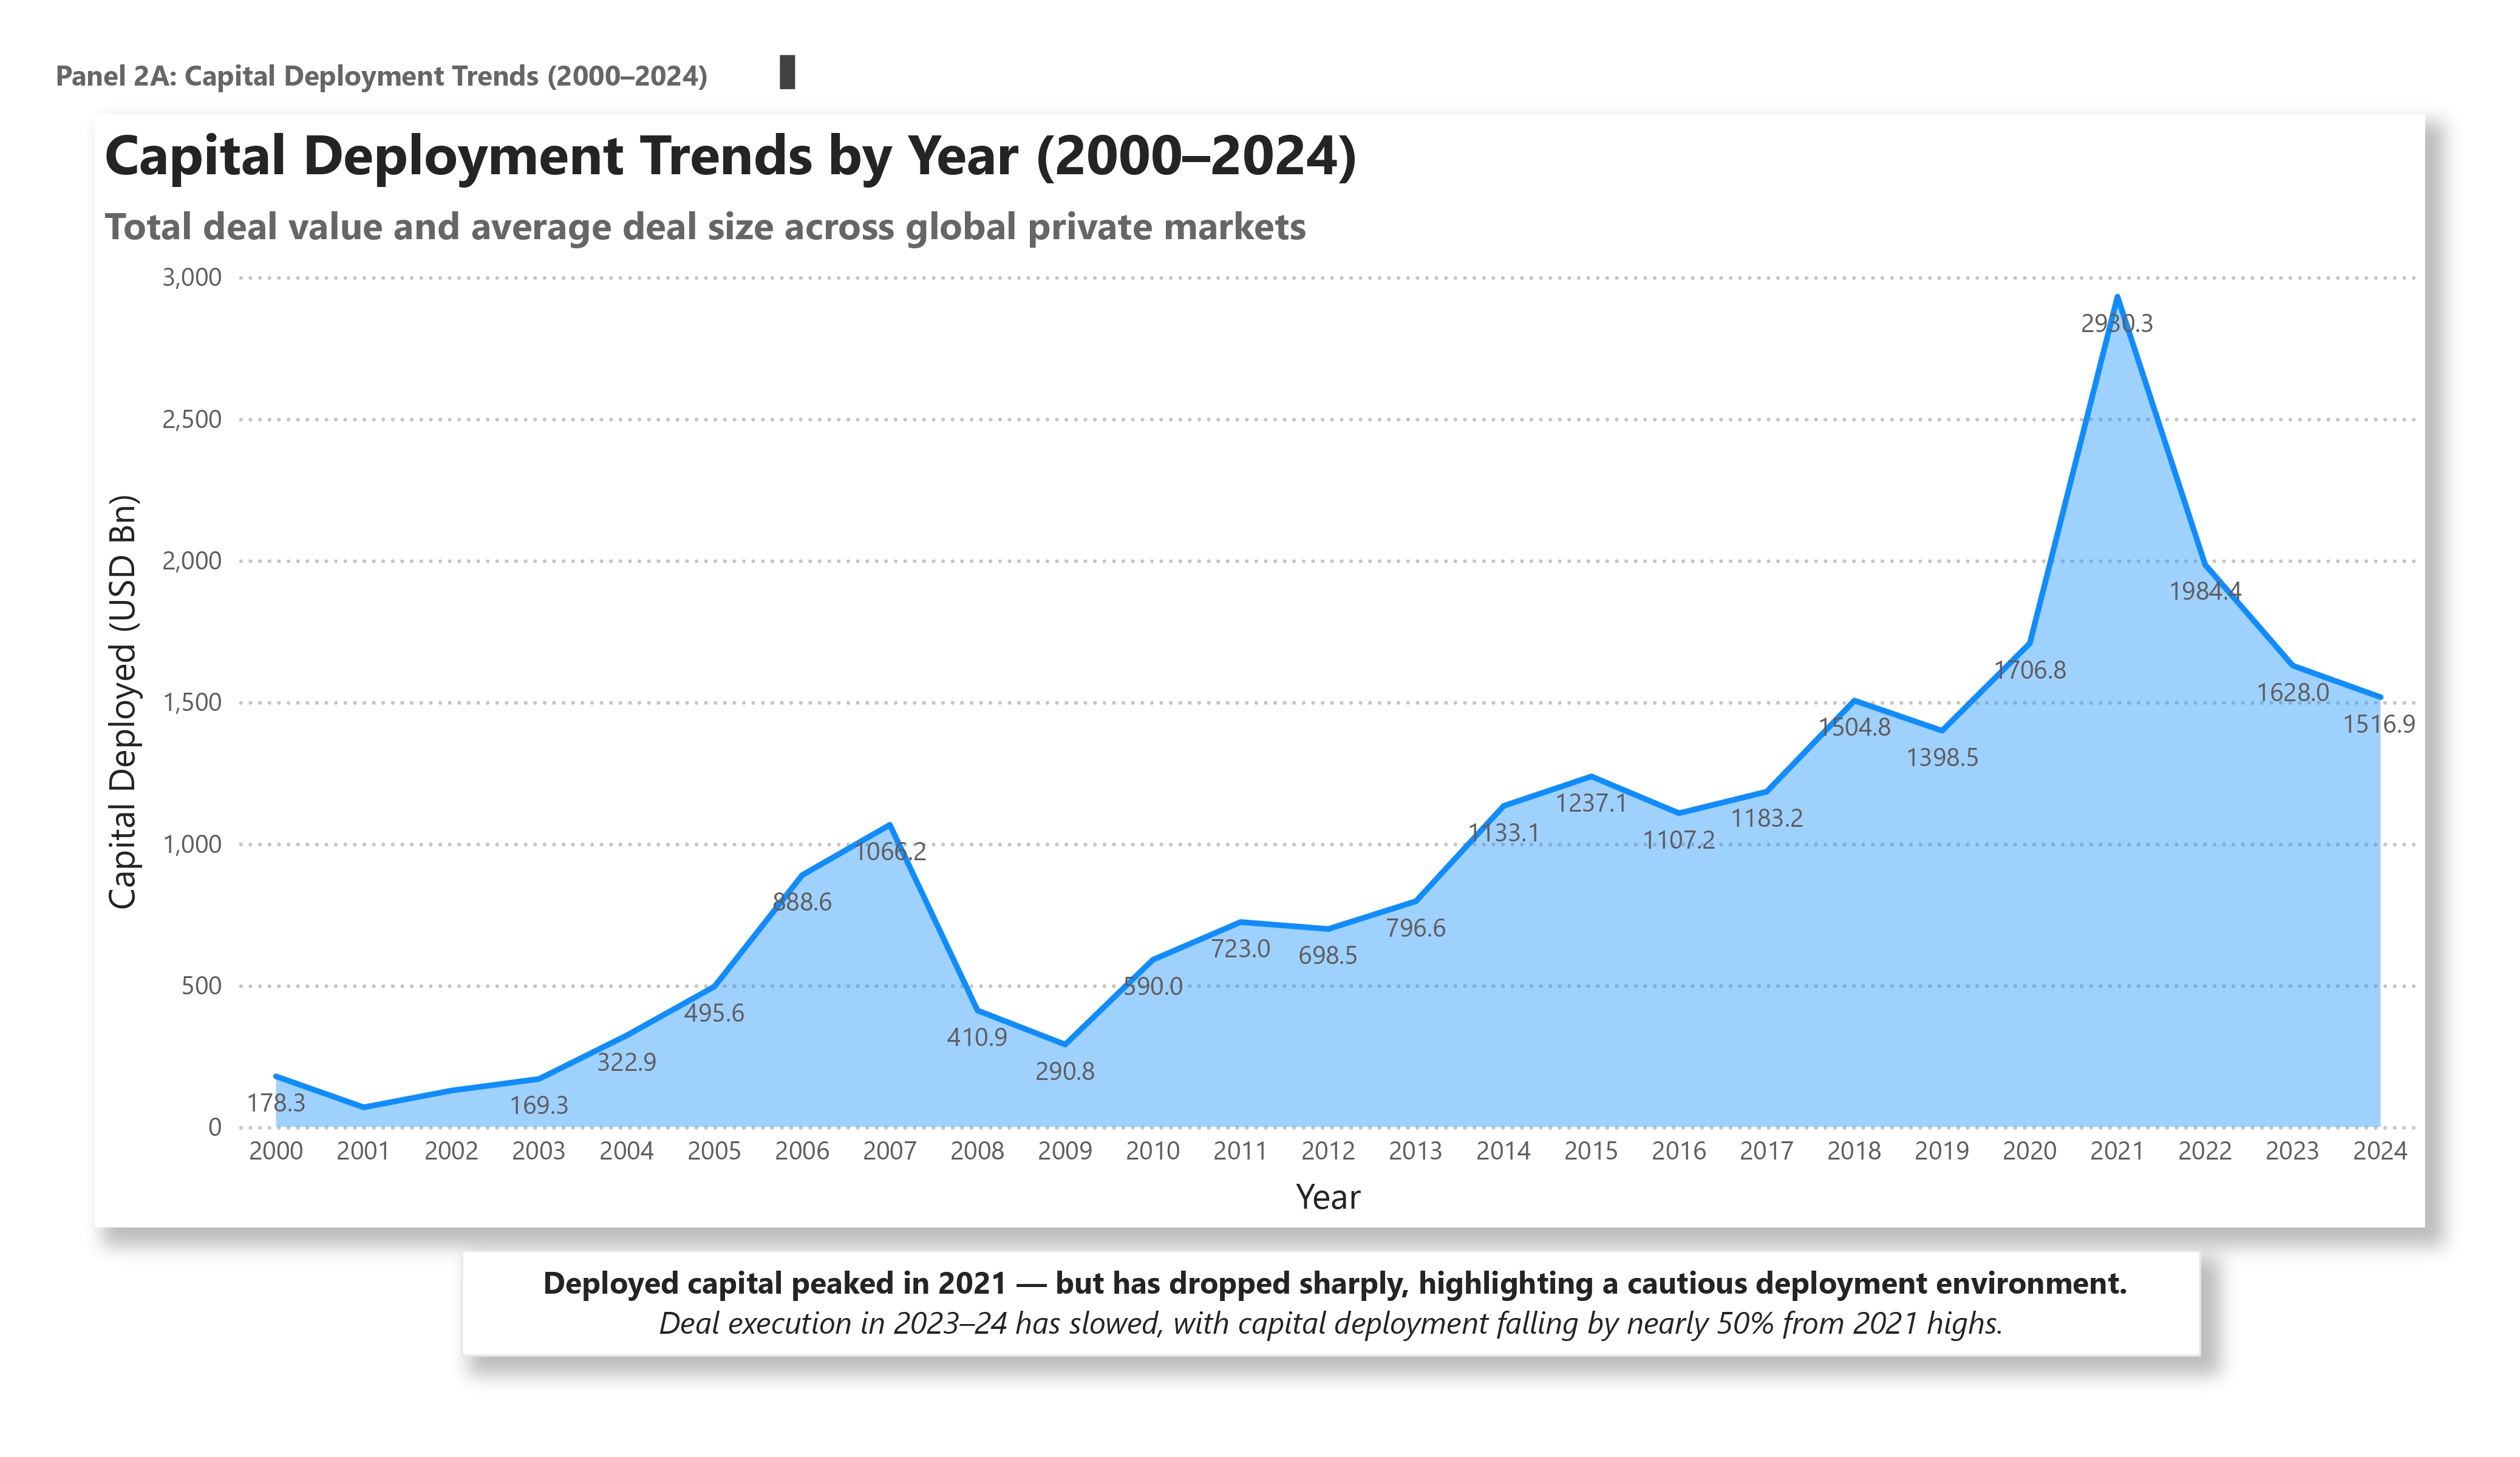

The dashboard page shown, as its layout file describes it:
{"tool":"powerbi","page":{"name":"panel-2a_capital-deployment-trends_2000-2024","canvas":[1280,720],"ordinal":6},"visuals":[{"type":"stackedAreaChart","title":"Capital Deployment Trends by Year (2000–2024)","fields":{"Category":["Deals Chart.DATE"],"Y":["Sum(Deals Chart.AGGREGATE DEAL VALUE (USD Bn))"]},"box":[26.2,36.2,1227.5,586.2],"z":0},{"type":"textbox","box":[218.8,635,917.5,56.2],"z":1000},{"type":"textbox","box":[0,0,400,36.2],"z":2000}]}

Visuals, with their boxes on the page's 1280x720 design canvas (x1, y1, x2, y2). These are canvas units, not pixel positions in the 2520x1457 screenshot, which may show the page scaled, cropped or inside an application window:
"Capital Deployment Trends by Year (2000–2024)" stackedAreaChart: 26,36,1254,622
textbox: 219,635,1136,691
textbox: 0,0,400,36
